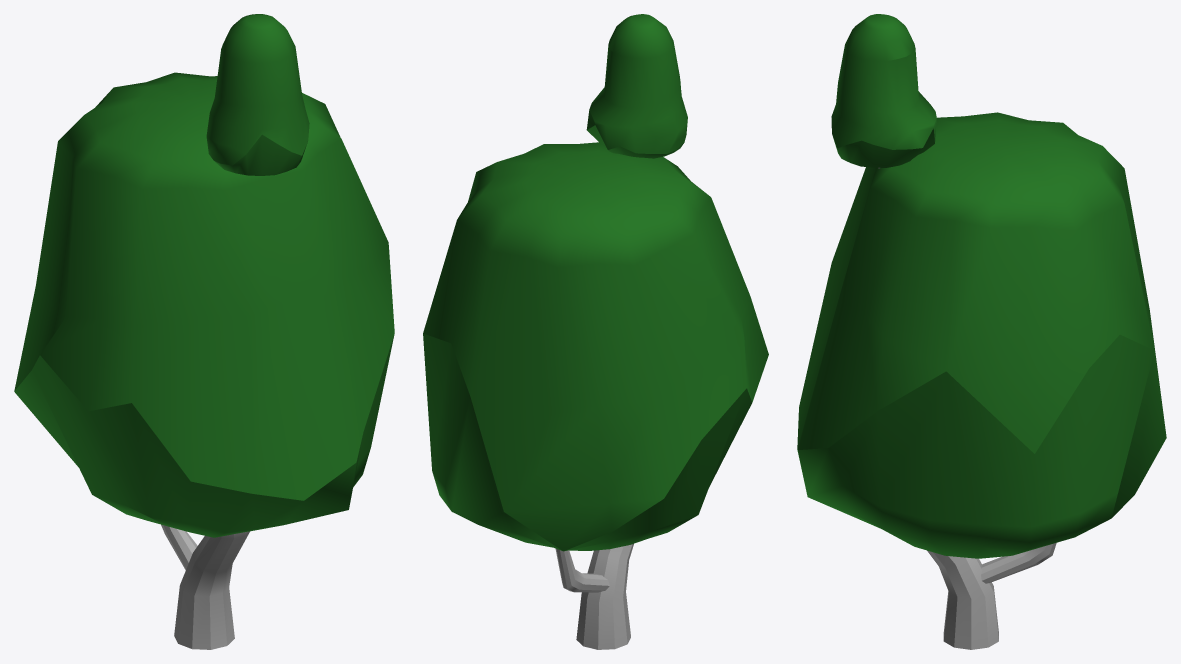
File: sm_Tree3.fbx
3 views of the same model, side by side, from view 1: azimuth 30°, elevation 25°; view 2: azimuth 150°, elevation 25°; view 3: azimuth 270°, elevation 25° (orthographic). The views are drawn at different scales.
Visible parts, largest first — view 1: polySurface1, polySurface2, polySurface6, polySurface4; view 2: polySurface1, polySurface2, polySurface6, polySurface4; view 3: polySurface1, polySurface2, polySurface6, polySurface4.
Boxes of the visible parts, x1,y1,x2,y2 form: polySurface1: [14, 72, 394, 537]; polySurface2: [206, 14, 309, 175]; polySurface6: [174, 531, 249, 649]; polySurface4: [161, 524, 197, 570]; polySurface1: [423, 142, 768, 551]; polySurface2: [586, 14, 687, 158]; polySurface6: [576, 544, 633, 649]; polySurface4: [555, 548, 609, 592]; polySurface1: [797, 112, 1166, 558]; polySurface2: [831, 14, 936, 167]; polySurface6: [927, 550, 998, 649]; polySurface4: [981, 543, 1056, 583].
Size of the model in its own units: 38.4 by 71.82 by 38.71.
